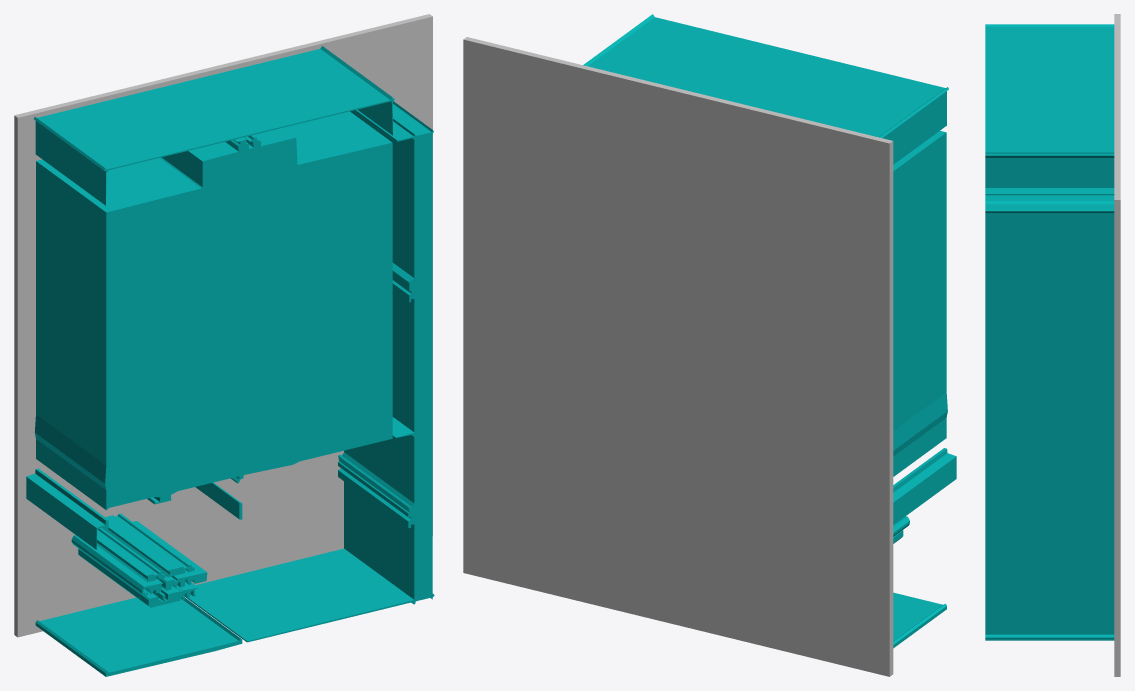
The picture shows the model from 3 angles, left to right: view 1: azimuth 30°, elevation 25°; view 2: azimuth 150°, elevation 25°; view 3: azimuth 270°, elevation 25°; orthographic projection. The views are drawn at different scales.
Parts seen in each view (by area): view 1: world; view 2: world; view 3: world.
Part boxes in pixels (x1=…): world: x1=14, y1=14, x2=434, y2=676; world: x1=463, y1=14, x2=956, y2=676; world: x1=985, y1=14, x2=1120, y2=676.
Bounding box in the file's own units: 10.23 × 12.23 × 3.15.
